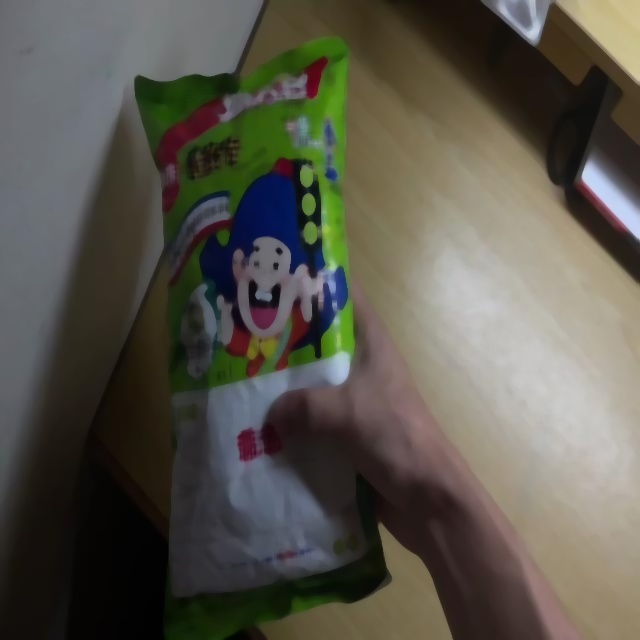Good-Luck: (133, 34, 394, 640)
